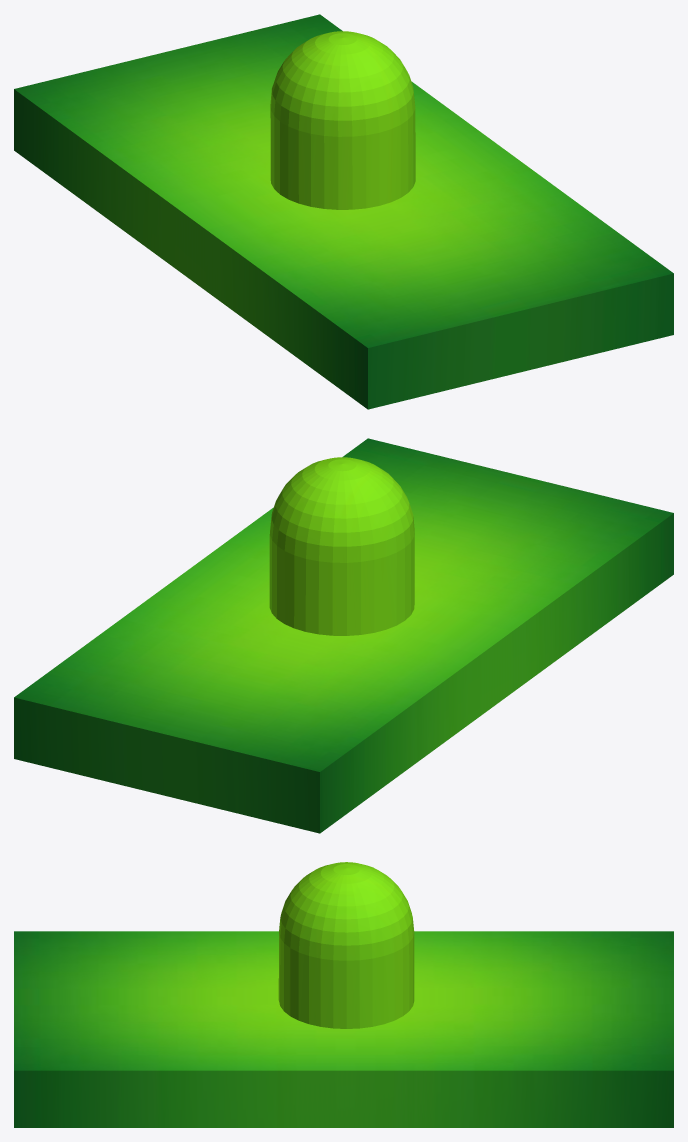
The model's file is hockeyrectanglepaddle.obj.
3 views of the same model, one above another, from view 1: azimuth 30°, elevation 25°; view 2: azimuth 150°, elevation 25°; view 3: azimuth 270°, elevation 25° (orthographic). The views are drawn at different scales.
Parts seen in each view (by area): view 1: Cube.001_Cube.000; view 2: Cube.001_Cube.000; view 3: Cube.001_Cube.000.
Boxes of the visible parts, x1,y1,x2,y2 form: Cube.001_Cube.000: [14, 14, 673, 409]; Cube.001_Cube.000: [14, 438, 673, 833]; Cube.001_Cube.000: [14, 862, 673, 1127].
Size of the model in its own units: 2 by 1.27 by 4.01.
